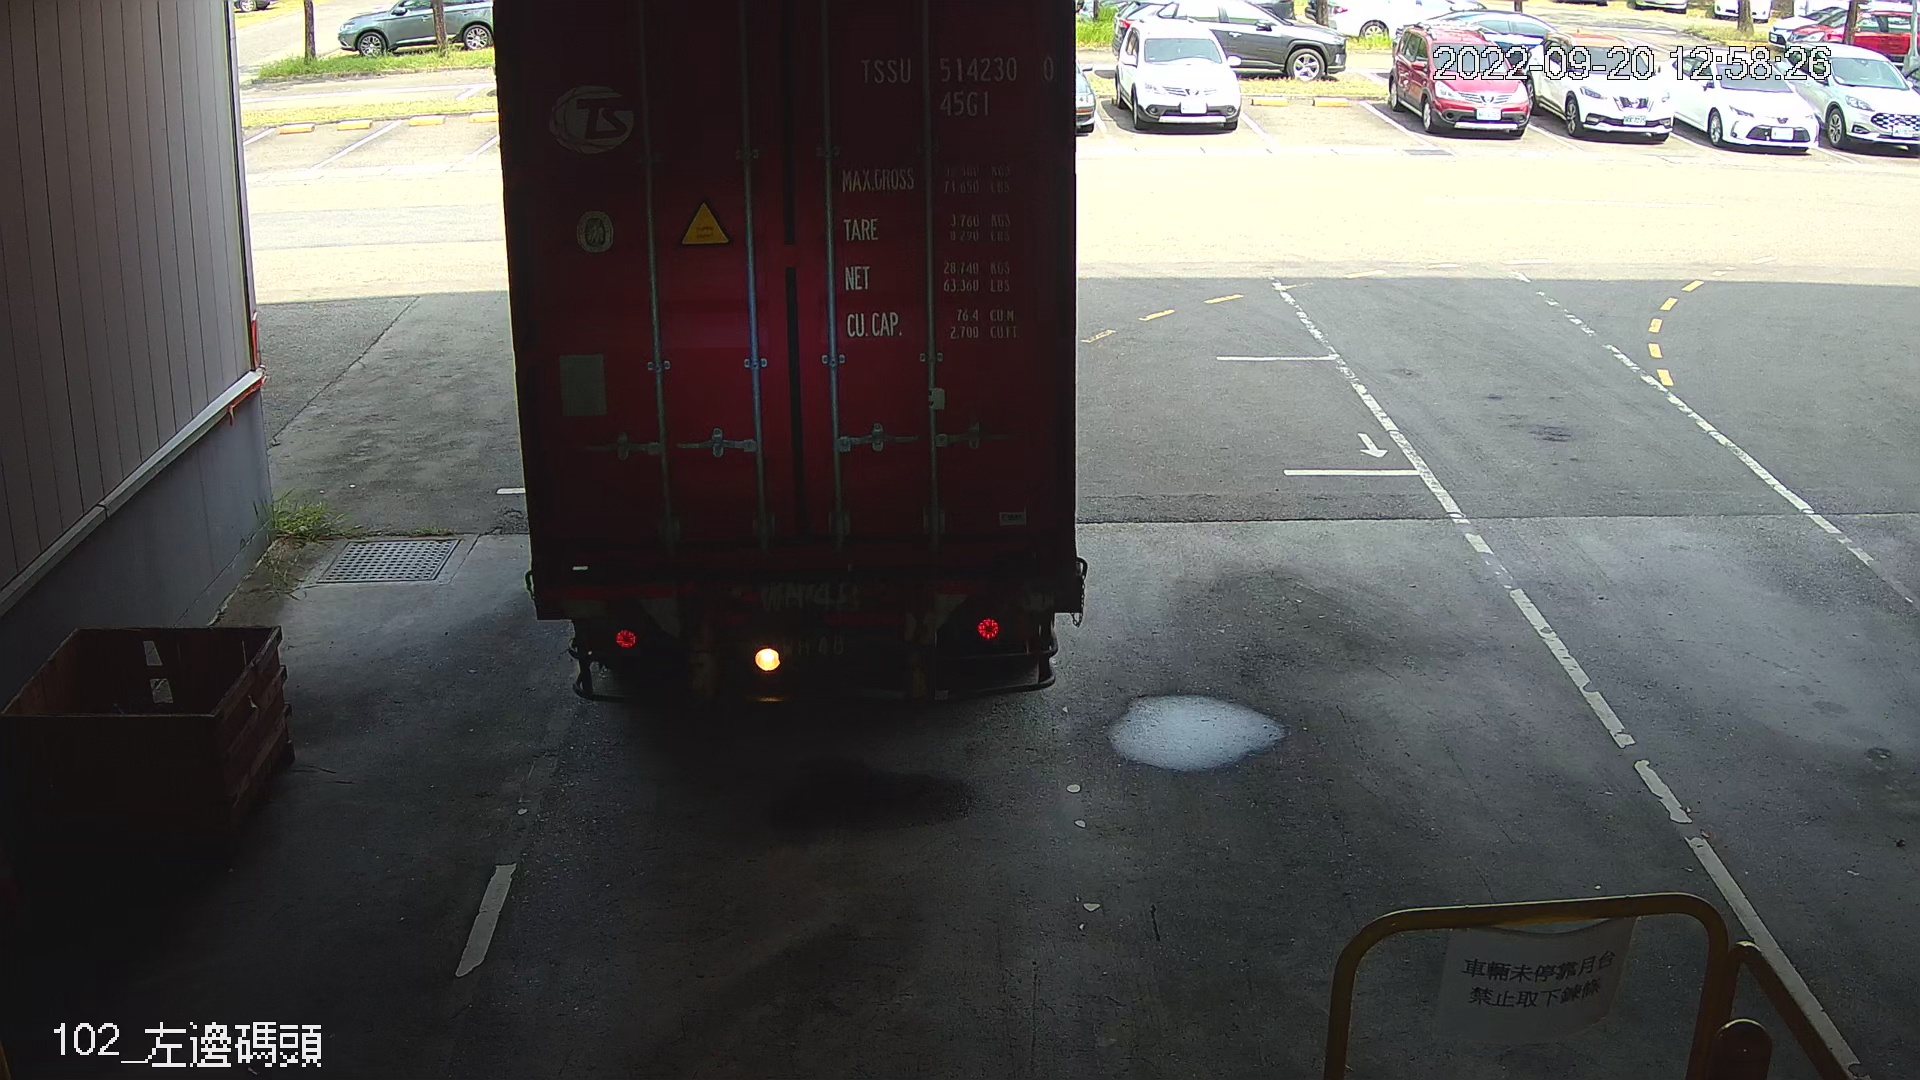container: (848, 49, 1063, 127)
